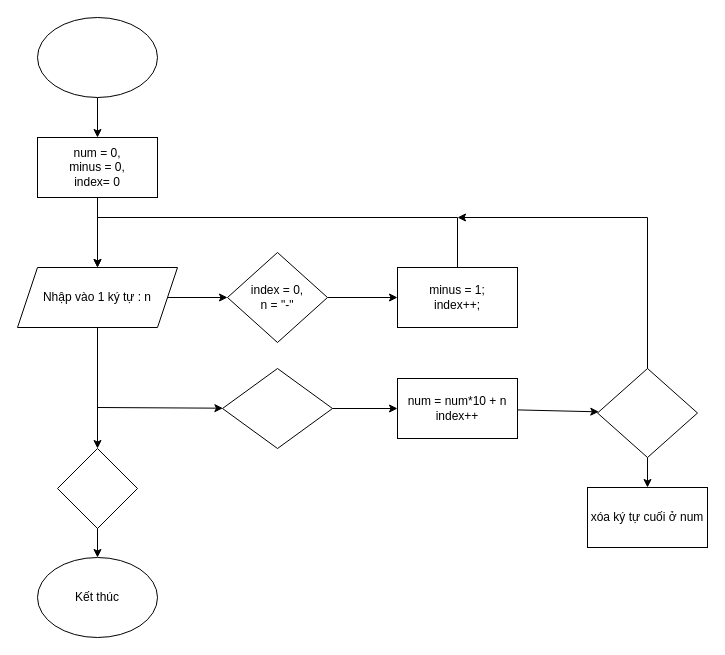
This 725x655 diagram has some shape labels left out. Each missing label, with the centre of its shape:
"Bắt đầu" goes at pixel 97 57.
"n = enter" goes at pixel 97 488.
"n là số nguyên" goes at pixel 277 408.
"num > 65535" goes at pixel 647 413.
